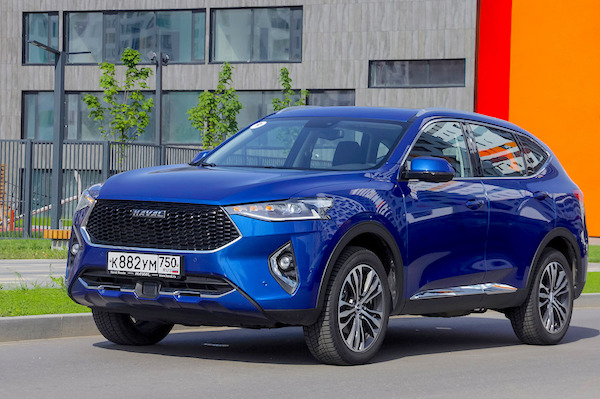car: (64, 102, 592, 369)
plate: (103, 248, 187, 279)
